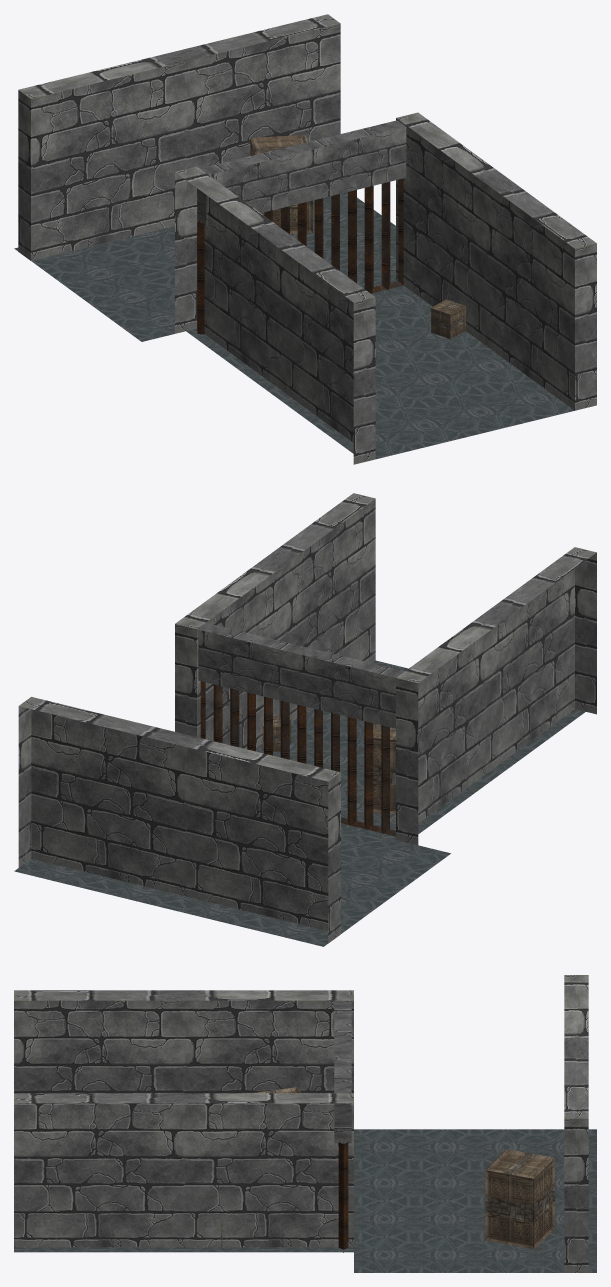
File: cell_001.FBX
3 views of the same model, one above another, from view 1: azimuth 30°, elevation 25°; view 2: azimuth 150°, elevation 25°; view 3: azimuth 270°, elevation 25° (orthographic). The views are drawn at different scales.
Parts seen in each view (by area): view 1: Box007, Box002, Box001, Plane001, Plane002, Box006, Plane003, Box008, Box005; view 2: Box007, Box001, Box002, Box006, Plane002, Plane003, Plane001, Box003; view 3: Box002, Box001, Plane002, Box007, Box008, Box006, Plane001, Plane003.
Boxes of the visible parts, box(x1,y1,x2,y2) form: Box007: box(18, 14, 340, 260); Box002: box(396, 112, 596, 410); Box001: box(175, 166, 375, 464); Plane001: box(186, 280, 574, 459); Plane002: box(14, 192, 395, 341); Box006: box(197, 120, 406, 226); Plane003: box(197, 178, 403, 334); Box008: box(250, 135, 312, 233); Box005: box(431, 299, 465, 338); Box007: box(18, 697, 340, 943); Box001: box(396, 547, 596, 845); Box002: box(175, 493, 375, 749); Box006: box(198, 623, 404, 728); Plane002: box(14, 826, 450, 946); Plane003: box(200, 681, 395, 836); Plane001: box(256, 660, 585, 839); Box003: box(373, 723, 395, 814); Box002: box(14, 1093, 353, 1247); Box001: box(14, 990, 353, 1093); Plane002: box(354, 1129, 596, 1272); Box007: box(564, 975, 588, 1272); Box008: box(485, 1149, 554, 1249); Box006: box(334, 1002, 351, 1143); Plane001: box(14, 1247, 353, 1252); Plane003: box(338, 1137, 348, 1252).
Bounding box in the file's own units: 140 × 72.35 × 240.
